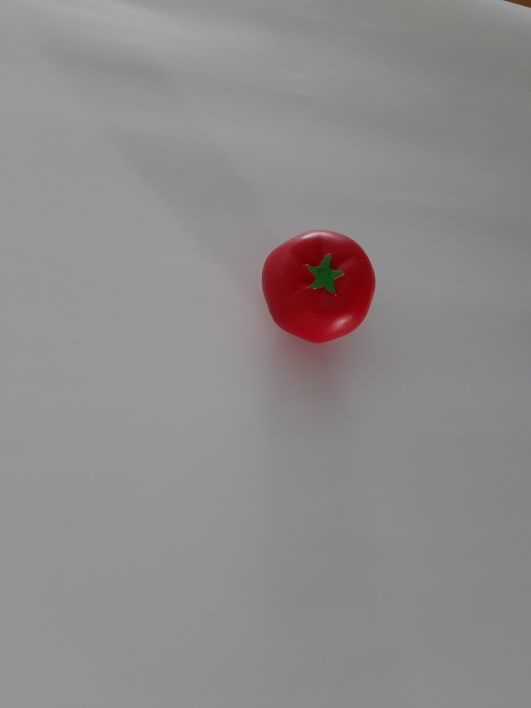tomato: (254, 222, 389, 358)
